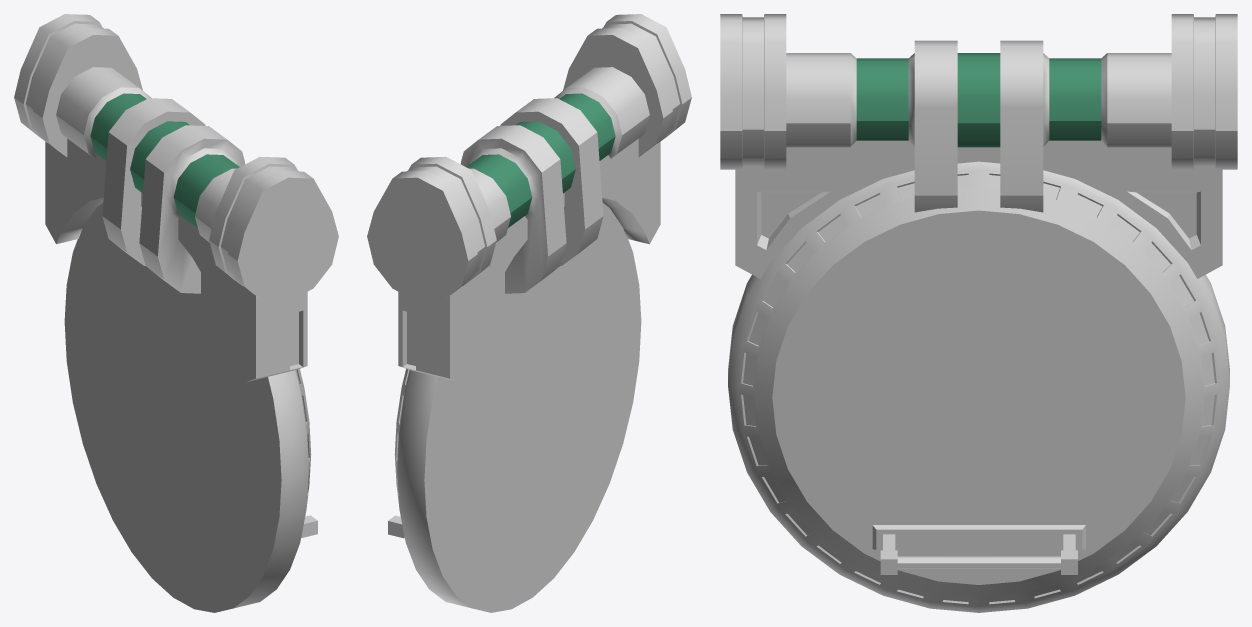
Rendered from vault_door.fbx.
3 views of the same model, side by side, from view 1: azimuth 30°, elevation 25°; view 2: azimuth 150°, elevation 25°; view 3: azimuth 270°, elevation 25° (orthographic). The views are drawn at different scales.
Visible parts, largest first — view 1: vault door T7, vault_back T7; view 2: vault door T7, vault_back T7; view 3: vault door T7, vault_back T7.
Boxes of the visible parts, box(x1,y1,x2,y2) form: vault door T7: box(14, 14, 338, 612); vault_back T7: box(45, 138, 307, 382); vault door T7: box(367, 14, 691, 612); vault_back T7: box(398, 138, 660, 382); vault door T7: box(720, 14, 1237, 612); vault_back T7: box(735, 140, 1222, 278).
Size of the model in its own units: 215 by 687 by 556.
